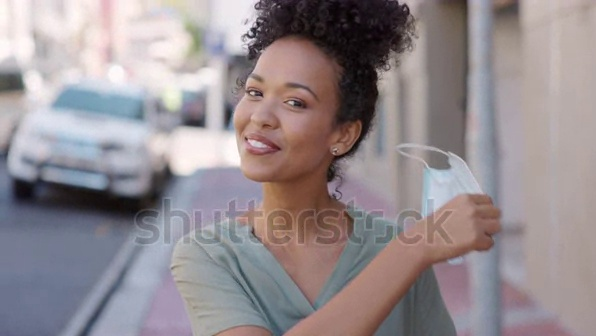No Mask: (224, 122, 324, 190)
